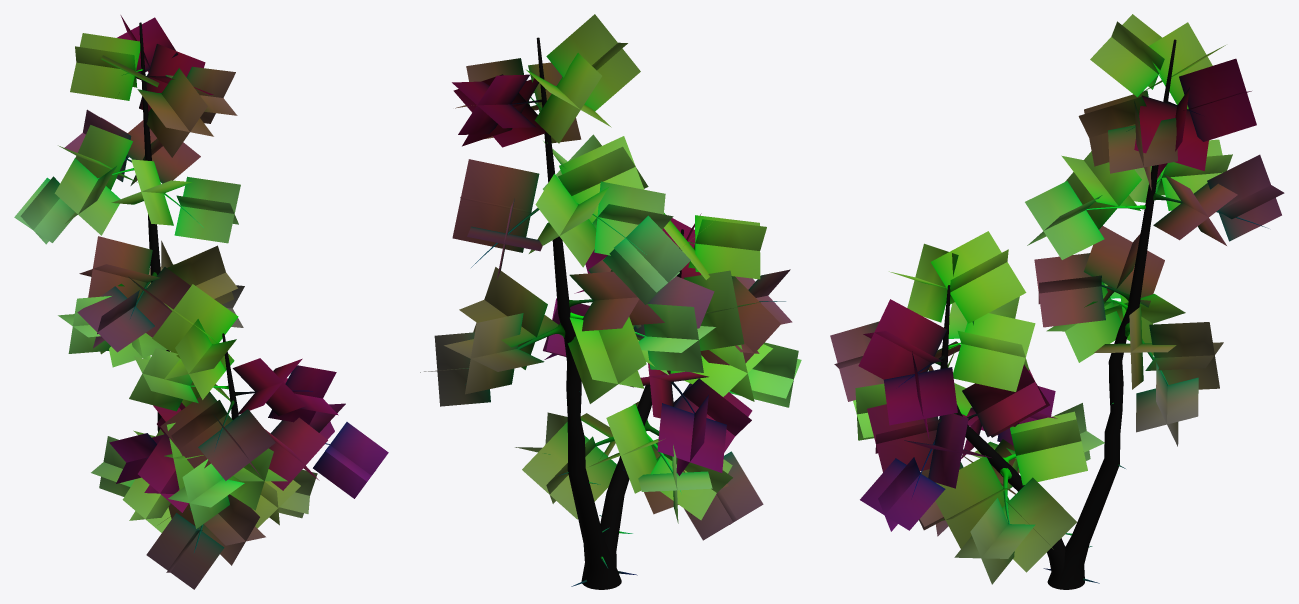
The model's file is URP_P7_Tree_8_LOD_0.fbx.
The picture shows the model from 3 angles, left to right: view 1: azimuth 30°, elevation 25°; view 2: azimuth 150°, elevation 25°; view 3: azimuth 270°, elevation 25°; orthographic projection. The views are drawn at different scales.
Parts seen in each view (by area): view 1: Tree_8_LOD_0; view 2: Tree_8_LOD_0; view 3: Tree_8_LOD_0.
Boxes of the visible parts, left/top/right/bottom form: Tree_8_LOD_0: left=14, top=15, right=388, bottom=589; Tree_8_LOD_0: left=420, top=14, right=801, bottom=589; Tree_8_LOD_0: left=830, top=14, right=1284, bottom=589.
Size of the model in its own units: 274 by 544 by 407.
